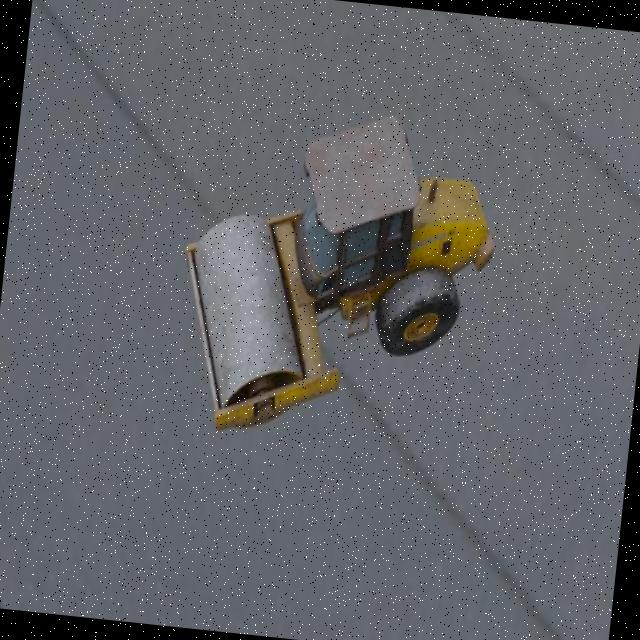Roller: (165, 95, 506, 458)
